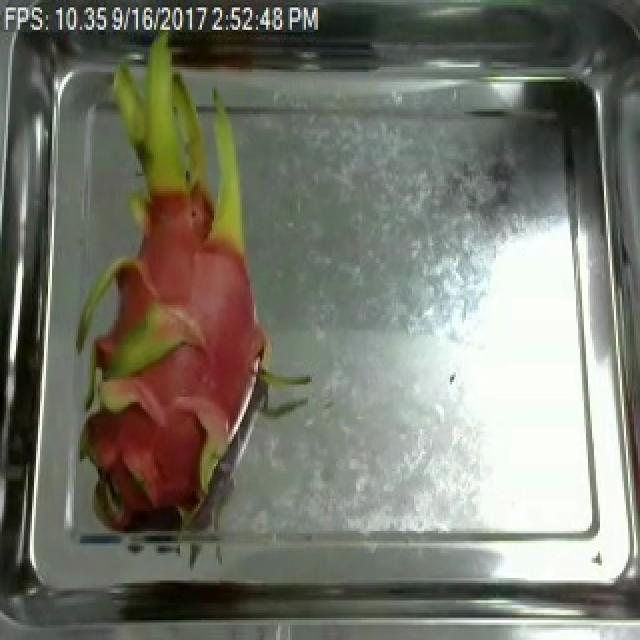fruit: (32, 69, 288, 521)
